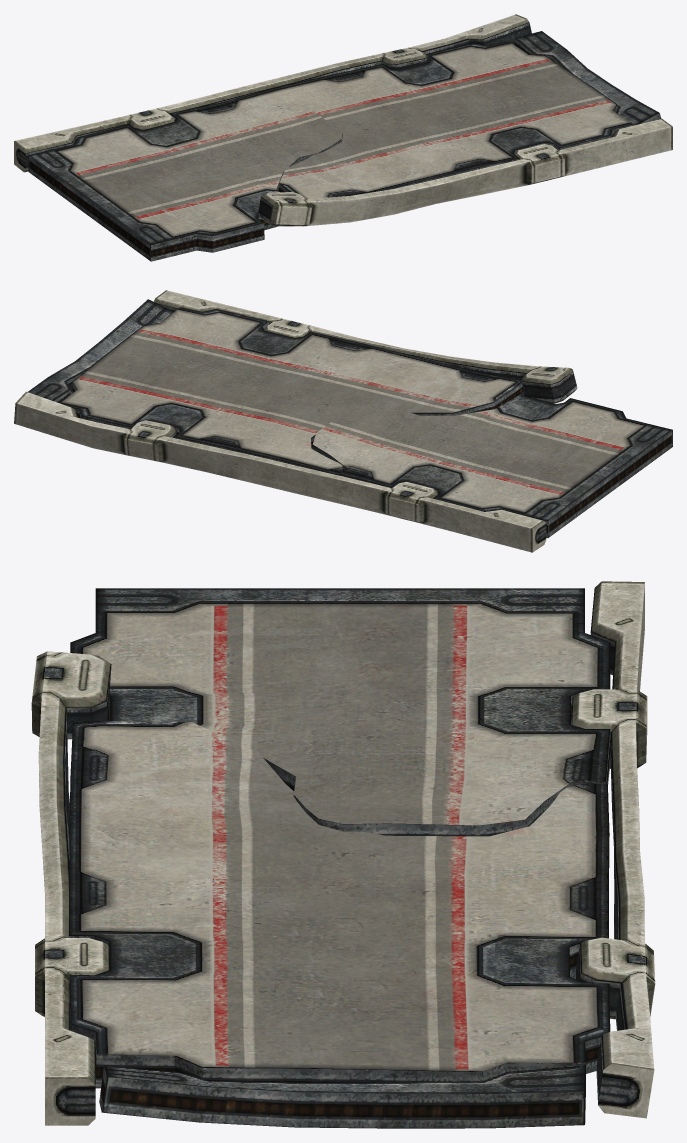
Rendered from 01_02_catwalk_collapse_straight.dae.
The picture shows the model from 3 angles, top to bottom: view 1: azimuth 30°, elevation 25°; view 2: azimuth 150°, elevation 25°; view 3: azimuth 270°, elevation 25°; orthographic projection. The views are drawn at different scales.
Parts seen in each view (by area): view 1: half2, half1, side1, side2, catwalk_end_piece; view 2: half2, half1, side2, side1, catwalk_end_piece; view 3: half2, half1, side2, catwalk_end_piece, side1.
Boxes of the visible parts, left/top/right/bottom form: half2: left=224, top=41, right=633, bottom=199; half1: left=28, top=102, right=342, bottom=261; side1: left=258, top=119, right=672, bottom=226; side2: left=14, top=14, right=531, bottom=172; catwalk_end_piece: left=514, top=31, right=661, bottom=125; half2: left=60, top=307, right=523, bottom=475; half1: left=312, top=393, right=672, bottom=537; side2: left=14, top=391, right=546, bottom=552; side1: left=154, top=290, right=577, bottom=403; catwalk_end_piece: left=28, top=299, right=173, bottom=403; half2: left=69, top=721, right=610, bottom=1088; half1: left=70, top=588, right=610, bottom=836; side2: left=571, top=581, right=655, bottom=1118; catwalk_end_piece: left=99, top=1065, right=585, bottom=1128; side1: left=31, top=651, right=111, bottom=1125.
Size of the model in its own units: 4.03 by 0.355 by 2.11.
